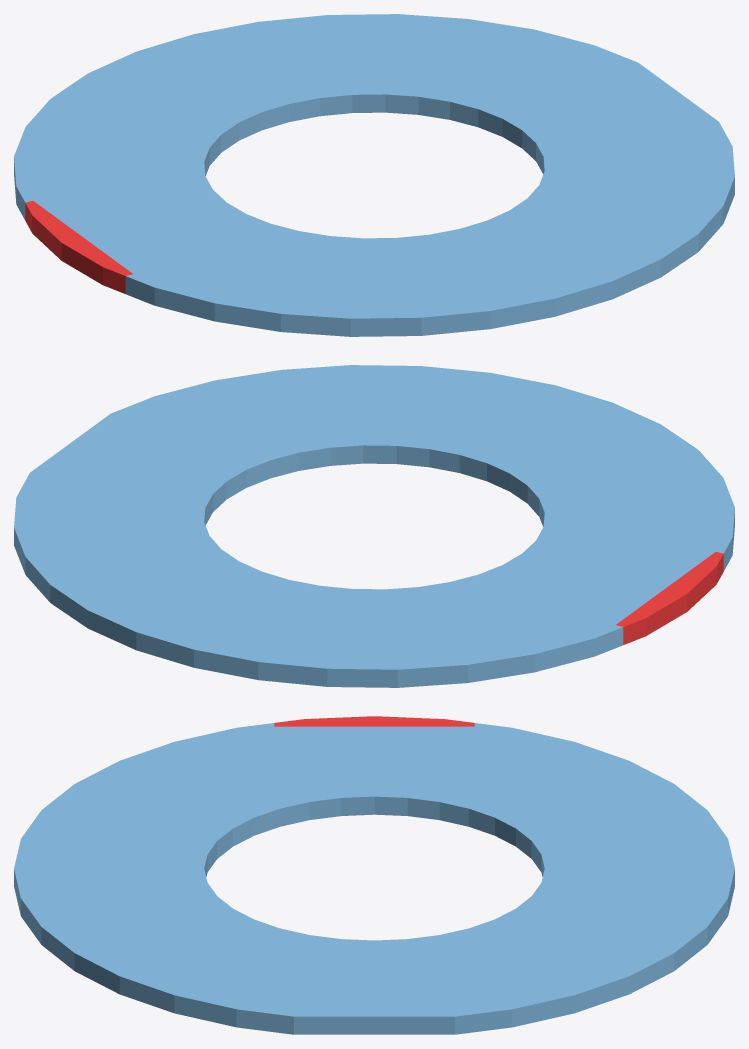
Rendered from lid-column-uses-own-bore-radius-heat-set-insert.actual.glb.
The picture shows the model from 3 angles, top to bottom: view 1: azimuth 30°, elevation 25°; view 2: azimuth 150°, elevation 25°; view 3: azimuth 270°, elevation 25°; orthographic projection.
Visible parts, largest first — view 1: lid-column, intersection-highlight; view 2: lid-column, intersection-highlight; view 3: lid-column, intersection-highlight.
Part boxes in pixels (<box>): lid-column: <box>14,14,734,336</box>; intersection-highlight: <box>25,201,133,293</box>; lid-column: <box>14,365,734,687</box>; intersection-highlight: <box>615,552,723,644</box>; lid-column: <box>14,723,734,1034</box>; intersection-highlight: <box>274,716,474,726</box>.
Size of the model in its own units: 7.1 by 0.2 by 7.2.
